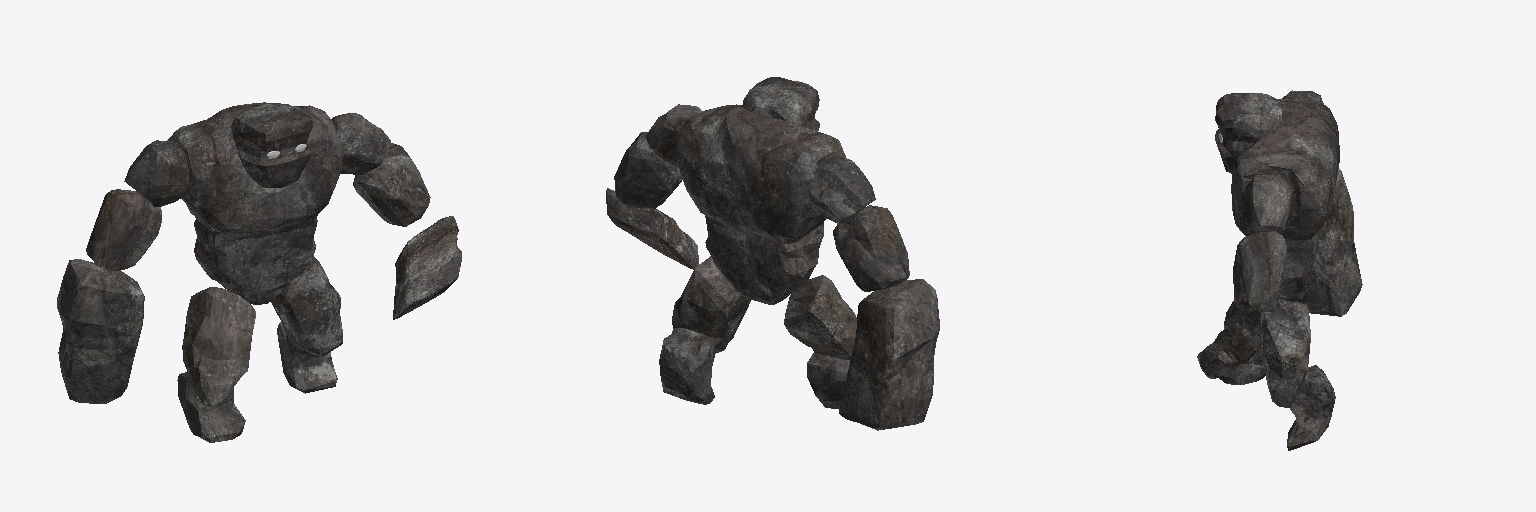
3 views of the same model, side by side, from view 1: azimuth 30°, elevation 25°; view 2: azimuth 150°, elevation 25°; view 3: azimuth 270°, elevation 25° (orthographic).
Parts seen in each view (by area): view 1: hands&leg.001_ice.003, torso.001_ice.005, head.001_ice.004; view 2: hands&leg.001_ice.003, torso.001_ice.005, head.001_ice.004; view 3: hands&leg.001_ice.003, torso.001_ice.005, head.001_ice.004.
Boxes of the visible parts, x1=… form: hands&leg.001_ice.003: x1=57, y1=113, x2=461, y2=442; torso.001_ice.005: x1=167, y1=102, x2=343, y2=304; head.001_ice.004: x1=231, y1=104, x2=312, y2=187; hands&leg.001_ice.003: x1=606, y1=104, x2=939, y2=430; torso.001_ice.005: x1=676, y1=104, x2=846, y2=304; head.001_ice.004: x1=742, y1=77, x2=819, y2=130; hands&leg.001_ice.003: x1=1197, y1=90, x2=1362, y2=450; torso.001_ice.005: x1=1231, y1=98, x2=1339, y2=301; head.001_ice.004: x1=1215, y1=93, x2=1282, y2=173.
Size of the model in its own units: 11.45 by 9.45 by 4.54.
Materials: 2 (1 with a texture image).